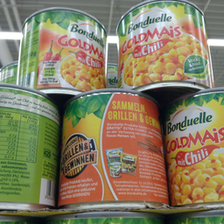corn: (60, 87, 170, 209), (113, 1, 213, 92), (19, 7, 108, 96), (1, 82, 60, 211), (165, 87, 224, 202)
